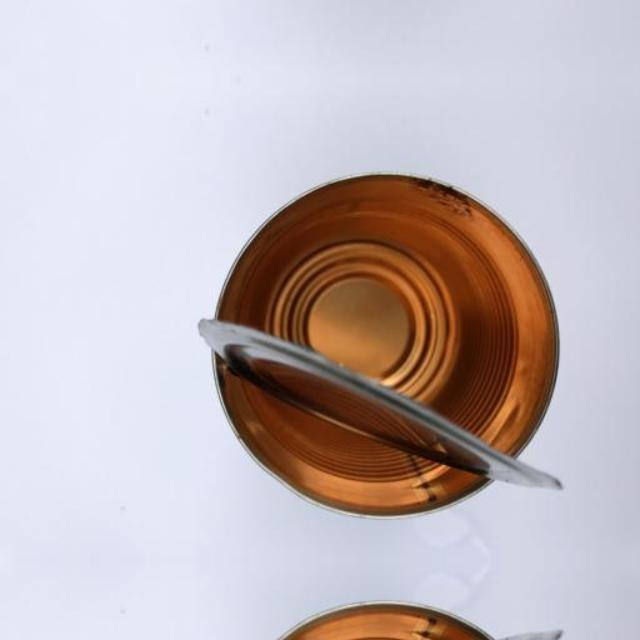Metal: (215, 158, 587, 536), (215, 584, 587, 640), (215, 0, 587, 1)
